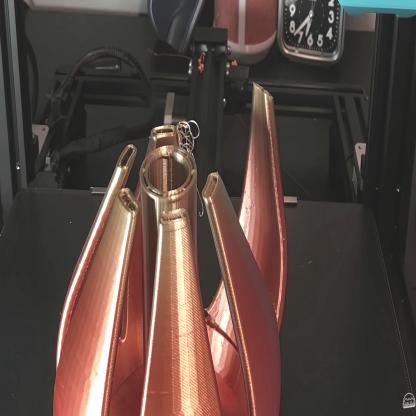fail: (179, 115, 201, 152)
